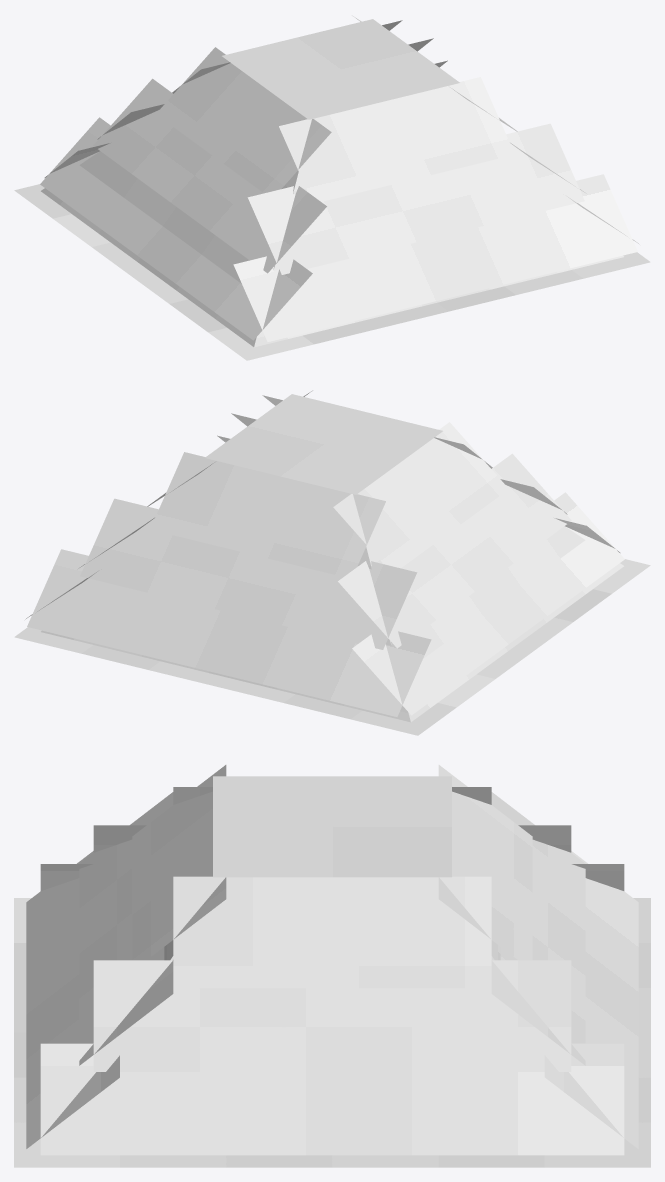
Rendered from dust_pile_medium.obj.
3 renders of one model, top to bottom at view 1: azimuth 30°, elevation 25°; view 2: azimuth 150°, elevation 25°; view 3: azimuth 270°, elevation 25°, orthographic. The views are drawn at different scales.
Visible parts, largest first — view 1: dust_pile_medium; view 2: dust_pile_medium; view 3: dust_pile_medium.
Boxes of the visible parts, left/top/right/bottom form: dust_pile_medium: left=14, top=15, right=650, bottom=360; dust_pile_medium: left=14, top=390, right=650, bottom=735; dust_pile_medium: left=14, top=765, right=650, bottom=1167.
Bounding box in the file's own units: 0.7522 × 0.275 × 0.75.
